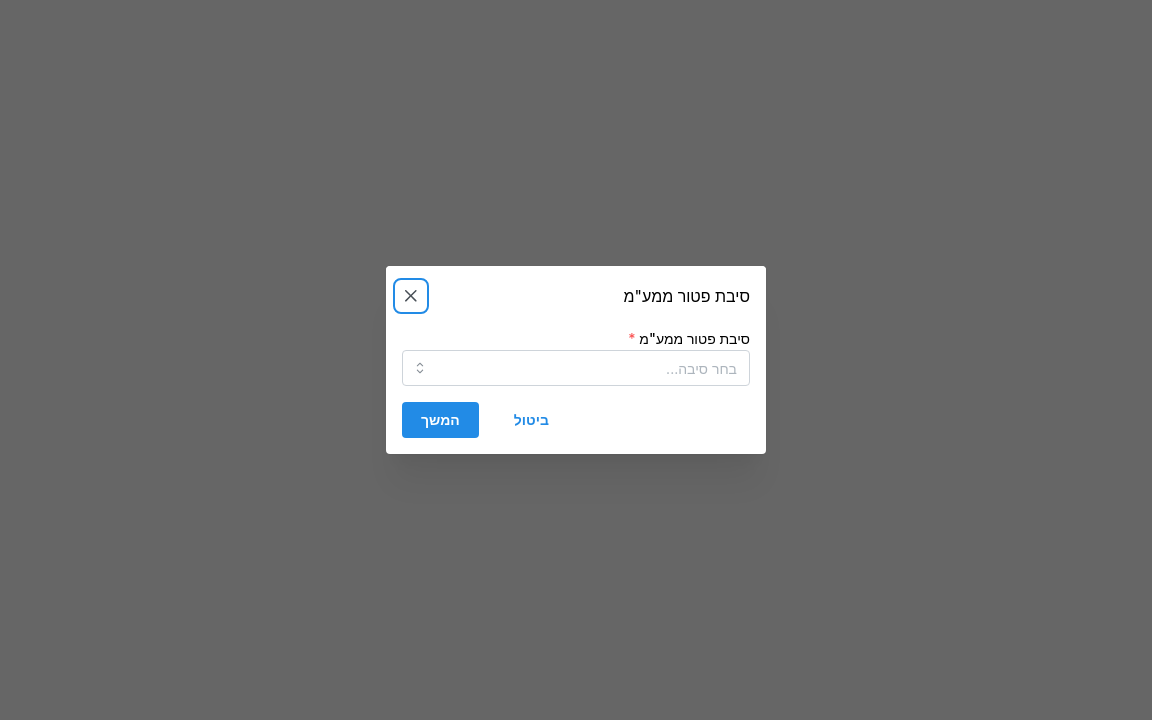
it: VatExemptionReasonModal › shows error when confirming without selecting a reason
Click the button "המשך": (440, 420) top-left (402, 402), bottom-right (479, 438)
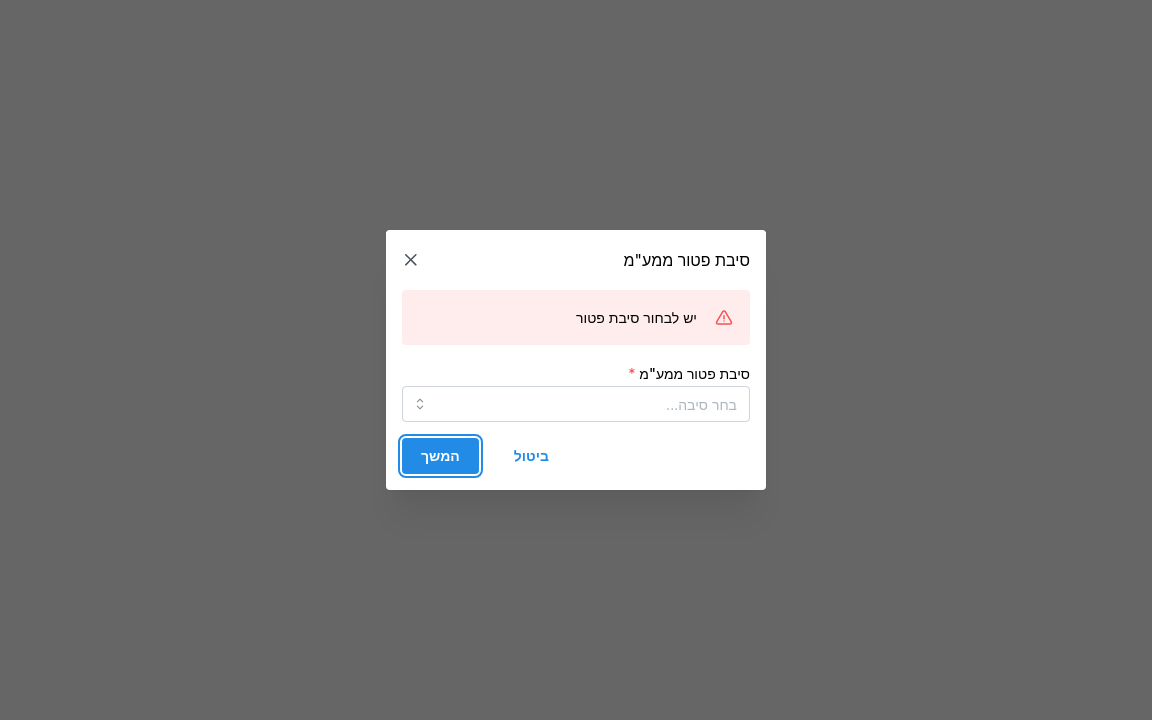
Expected: the text "יש לבחור סיבת פטור" is shown, top-left (576, 309), bottom-right (697, 326)
